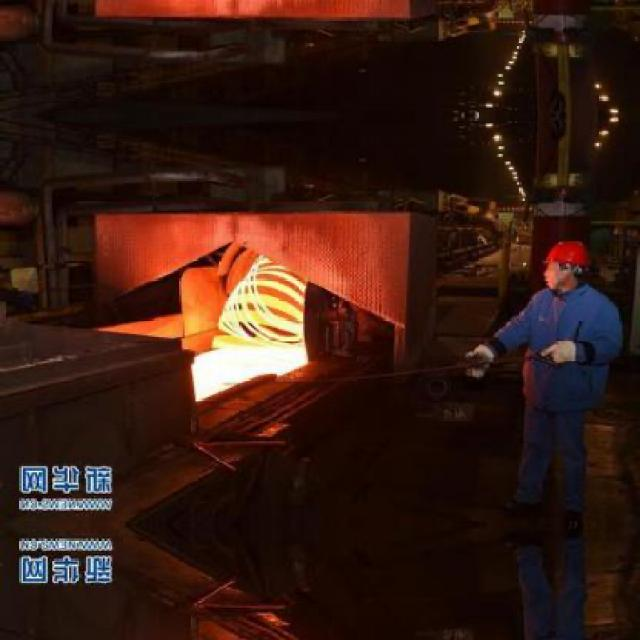helmet: (540, 236, 592, 290)
